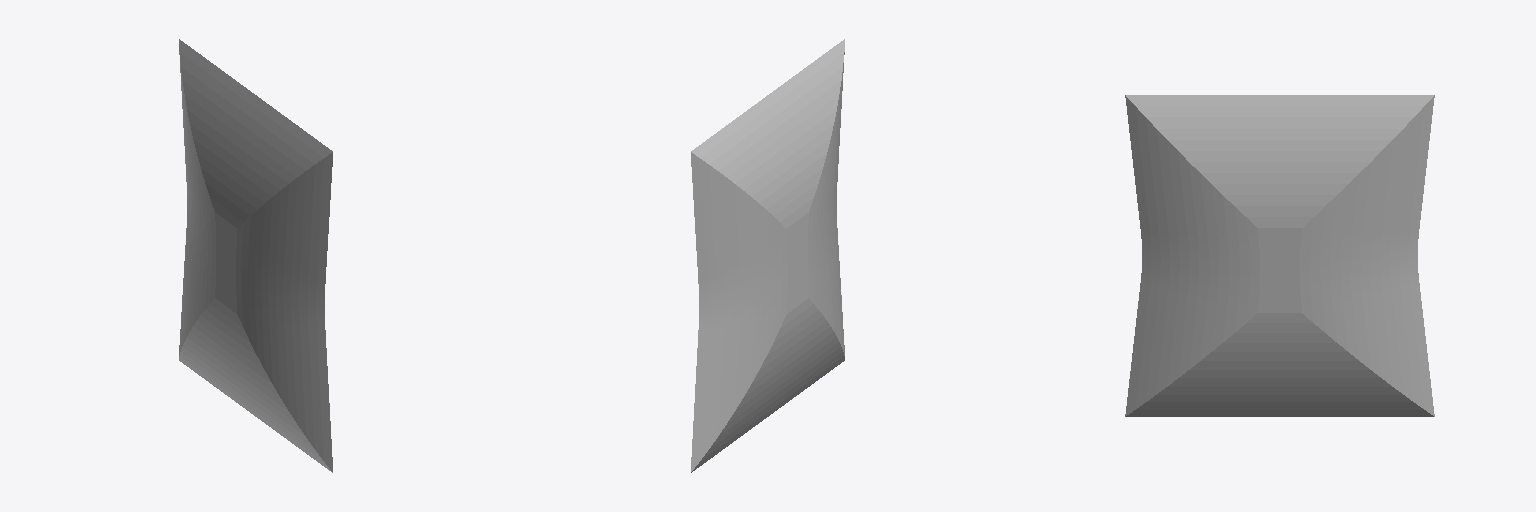
The model's file is Packet.obj.
The picture shows the model from 3 angles: view 1: azimuth 30°, elevation 25°; view 2: azimuth 150°, elevation 25°; view 3: azimuth 270°, elevation 25°; orthographic projection.
Visible parts, largest first — view 1: group_0_ID4.001; view 2: group_0_ID4.001; view 3: group_0_ID4.001.
Boxes of the visible parts, x1,y1,x2,y2 form: group_0_ID4.001: [179, 39, 332, 472]; group_0_ID4.001: [691, 39, 844, 472]; group_0_ID4.001: [1125, 95, 1434, 416].
Bounding box in the file's own units: 0.4544 × 2.34 × 2.04.